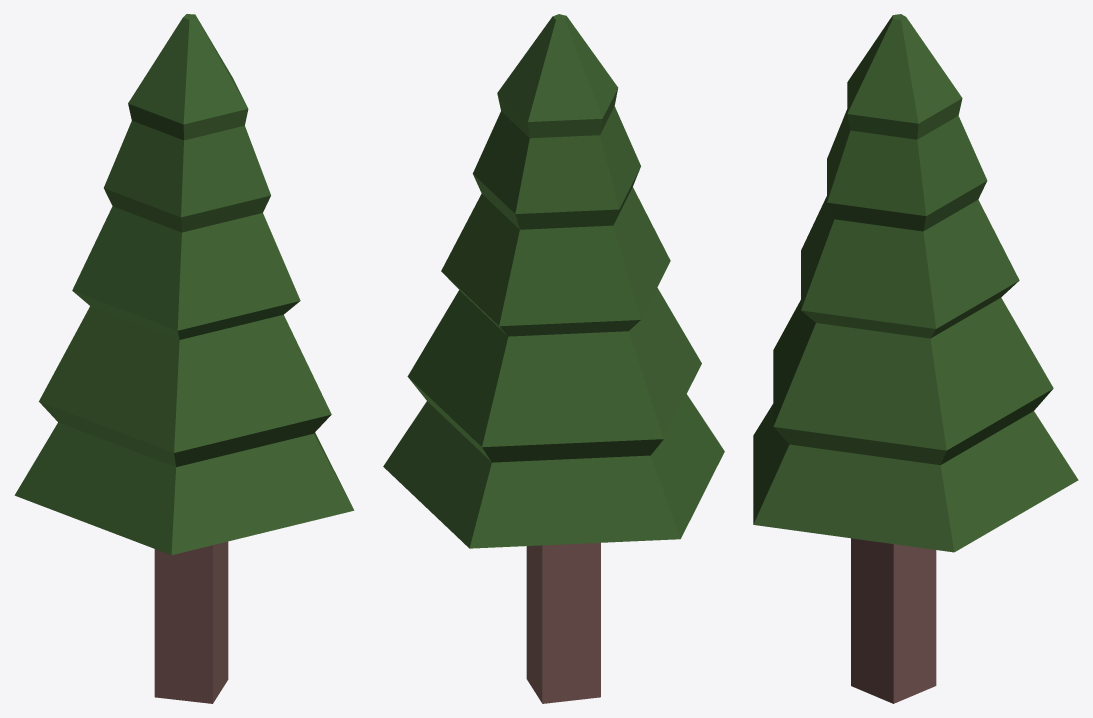
File: pino.glb
3 renders of one model, left to right at view 1: azimuth 30°, elevation 25°; view 2: azimuth 150°, elevation 25°; view 3: azimuth 270°, elevation 25°, orthographic.
Visible parts, largest first — view 1: pino; view 2: pino; view 3: pino.
Boxes of the visible parts, <box> form: pino: <box>14,14,354,703</box>; pino: <box>383,14,724,703</box>; pino: <box>753,14,1078,703</box>.
Size of what is drawn, in the model's own units: 4.38 by 9.47 by 4.17.
